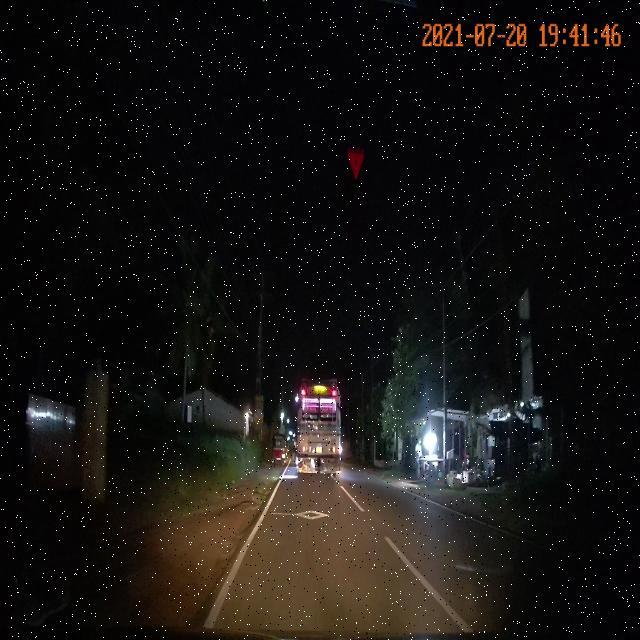diamond: (256, 508, 375, 524)
